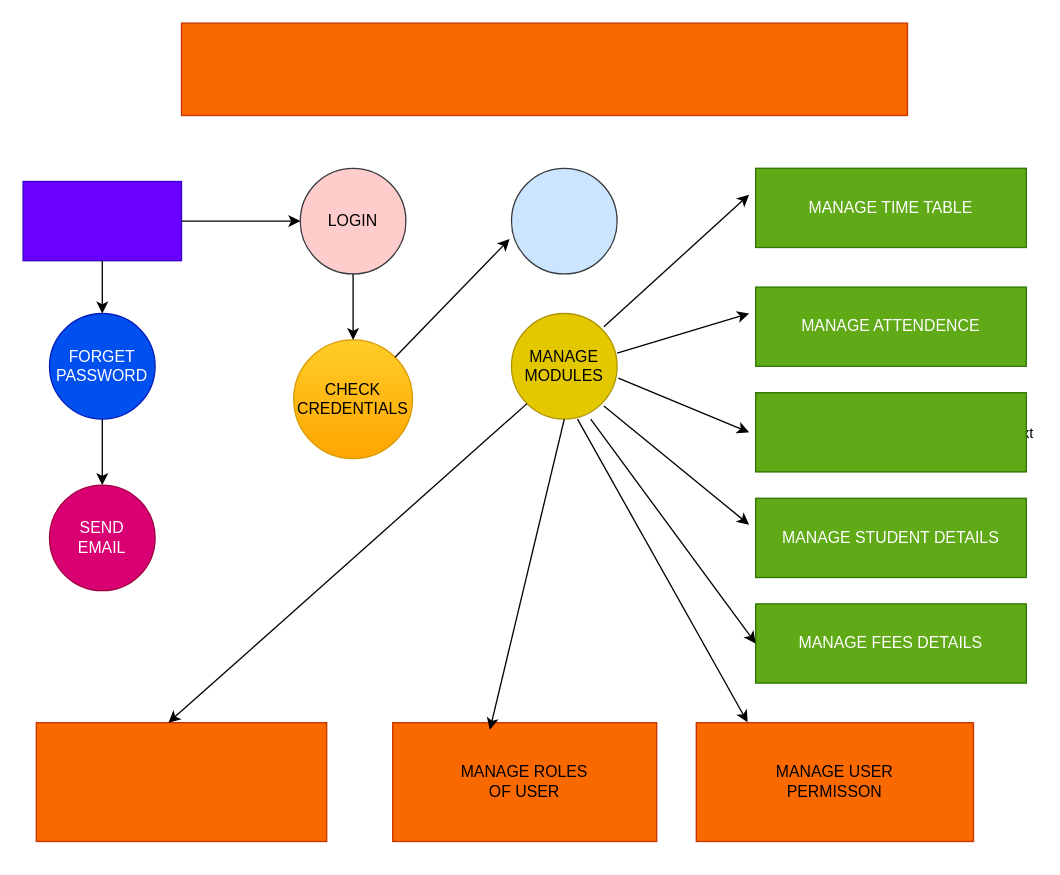
This 1060x875 diagram has some shape labels left out. Here are the shapes that lost their labels. From the top down, the box of each, then its label:
(180, 22, 908, 116): STUDENT INFORMATION SYSTEM
(22, 180, 182, 261): ADMIN
(510, 167, 617, 274): CHECK ROLE
(754, 391, 1026, 472): MANAGE CLASS DETAILS
(35, 721, 327, 842): MANAGE SYSTEM ADMINS
